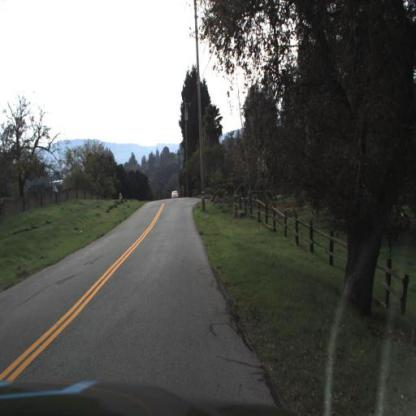car: (167, 189, 181, 206), (171, 188, 180, 200)
